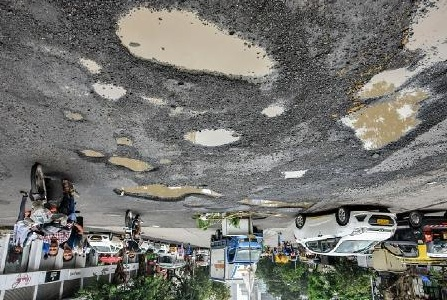pothole: (112, 5, 279, 86), (337, 67, 444, 155), (401, 0, 447, 64), (112, 181, 225, 204), (184, 125, 242, 150), (236, 197, 313, 211), (106, 154, 157, 175), (90, 81, 126, 104), (76, 57, 104, 76), (78, 146, 106, 163), (60, 107, 86, 125), (282, 168, 310, 182), (260, 105, 288, 118), (114, 136, 136, 147)
